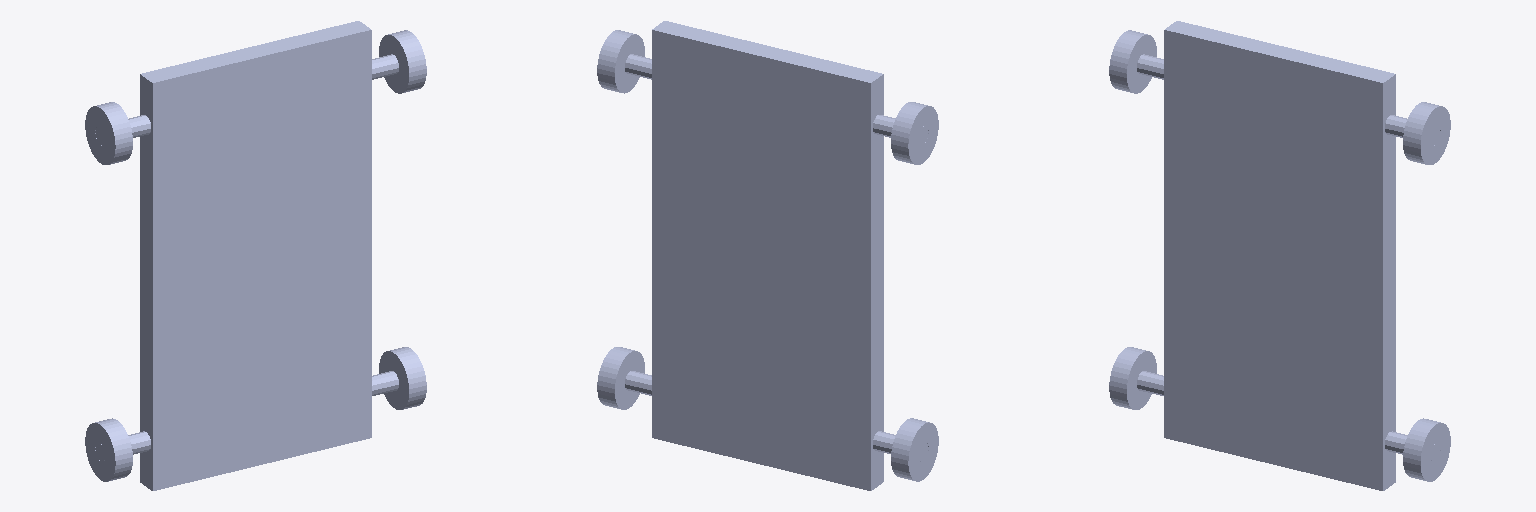
robot.urdf — ros_test_ass_v2:
<?xml version="1.0" encoding="utf-8"?>
<!-- This URDF was automatically created by SolidWorks to URDF Exporter! Originally created by [author] ([email redacted]) 
     Commit Version: 1.6.0-1-g15f4949  Build Version: 1.6.7594.29634
     For more information, please see http://wiki.ros.org/sw_urdf_exporter -->
<robot
  name="ros_test_ass_v2">
  <link
    name="chassis_link">
    <inertial>
      <origin
        xyz="-2.77555756156289E-17 0.0249831852972346 0.445"
        rpy="0 0 0" />
      <mass
        value="22.7777875658031" />
      <inertia
        ixx="1.53624657736055"
        ixy="-5.70932190304047E-19"
        ixz="6.43745039913268E-17"
        iyy="2.04388054287898"
        iyz="-7.25911804919028E-18"
        izz="0.517010899353609" />
    </inertial>
    <visual>
      <origin
        xyz="0 0 0"
        rpy="0 0 0" />
      <geometry>
        <mesh
          filename="package://ros_test_ass_v2/meshes/chassis_link.STL" />
      </geometry>
      <material
        name="">
        <color
          rgba="0.792156862745098 0.819607843137255 0.933333333333333 1" />
      </material>
    </visual>
    <collision>
      <origin
        xyz="0 0 0"
        rpy="0 0 0" />
      <geometry>
        <mesh
          filename="package://ros_test_ass_v2/meshes/chassis_link.STL" />
      </geometry>
    </collision>
  </link>
  <link
    name="frontleft_wheel">
    <inertial>
      <origin
        xyz="-0.335 0.024274 0.1"
        rpy="0 0 0" />
      <mass
        value="0.40212" />
      <inertia
        ixx="0.00080425"
        ixy="-1.1656E-36"
        ixz="-9.2518E-37"
        iyy="0.00045574"
        iyz="7.6788E-38"
        izz="0.00045574" />
    </inertial>
    <visual>
      <origin
        xyz="0 0 0"
        rpy="0 0 0" />
      <geometry>
        <mesh
          filename="package://ros_test_ass_v2/meshes/frontleft_wheel.STL" />
      </geometry>
      <material
        name="">
        <color
          rgba="0.79216 0.81961 0.93333 1" />
      </material>
    </visual>
    <collision>
      <origin
        xyz="0 0 0"
        rpy="0 0 0" />
      <geometry>
        <mesh
          filename="package://ros_test_ass_v2/meshes/frontleft_wheel.STL" />
      </geometry>
    </collision>
  </link>
  <joint
    name="front_left"
    type="revolute">
    <origin
      xyz="0 0 0"
      rpy="0 0 0" />
    <parent
      link="chassis_link" />
    <child
      link="frontleft_wheel" />
    <axis
      xyz="1 0 0" />
    <limit
      lower="0"
      upper="0"
      effort="0"
      velocity="0" />
  </joint>
  <link
    name="front_right_link">
    <inertial>
      <origin
        xyz="0.335 0.024274 0.1"
        rpy="0 0 0" />
      <mass
        value="0.40212" />
      <inertia
        ixx="0.00080425"
        ixy="-1.1656E-36"
        ixz="1.1755E-36"
        iyy="0.00045574"
        iyz="7.6788E-38"
        izz="0.00045574" />
    </inertial>
    <visual>
      <origin
        xyz="0 0 0"
        rpy="0 0 0" />
      <geometry>
        <mesh
          filename="package://ros_test_ass_v2/meshes/front_right_link.STL" />
      </geometry>
      <material
        name="">
        <color
          rgba="0.79216 0.81961 0.93333 1" />
      </material>
    </visual>
    <collision>
      <origin
        xyz="0 0 0"
        rpy="0 0 0" />
      <geometry>
        <mesh
          filename="package://ros_test_ass_v2/meshes/front_right_link.STL" />
      </geometry>
    </collision>
  </link>
  <joint
    name="front_right"
    type="revolute">
    <origin
      xyz="0 0 0"
      rpy="0 0 0" />
    <parent
      link="chassis_link" />
    <child
      link="front_right_link" />
    <axis
      xyz="1 0 0" />
    <limit
      lower="0"
      upper="0"
      effort="0"
      velocity="0" />
  </joint>
  <link
    name="rear_left_link">
    <inertial>
      <origin
        xyz="-0.335 0.024274 0.79"
        rpy="0 0 0" />
      <mass
        value="0.40212" />
      <inertia
        ixx="0.00080425"
        ixy="3.9528E-21"
        ixz="7.9056E-21"
        iyy="0.00045574"
        iyz="-7.8895E-20"
        izz="0.00045574" />
    </inertial>
    <visual>
      <origin
        xyz="0 0 0"
        rpy="0 0 0" />
      <geometry>
        <mesh
          filename="package://ros_test_ass_v2/meshes/rear_left_link.STL" />
      </geometry>
      <material
        name="">
        <color
          rgba="0.79216 0.81961 0.93333 1" />
      </material>
    </visual>
    <collision>
      <origin
        xyz="0 0 0"
        rpy="0 0 0" />
      <geometry>
        <mesh
          filename="package://ros_test_ass_v2/meshes/rear_left_link.STL" />
      </geometry>
    </collision>
  </link>
  <joint
    name="rear_left"
    type="revolute">
    <origin
      xyz="0 0 0"
      rpy="0 0 0" />
    <parent
      link="chassis_link" />
    <child
      link="rear_left_link" />
    <axis
      xyz="1 0 0" />
    <limit
      lower="0"
      upper="0"
      effort="0"
      velocity="0" />
  </joint>
  <link
    name="rear_right_link">
    <inertial>
      <origin
        xyz="0.335 0.024274 0.79"
        rpy="0 0 0" />
      <mass
        value="0.40212" />
      <inertia
        ixx="0.00080425"
        ixy="-1.1656E-36"
        ixz="1.1755E-36"
        iyy="0.00045574"
        iyz="7.6788E-38"
        izz="0.00045574" />
    </inertial>
    <visual>
      <origin
        xyz="0 0 0"
        rpy="0 0 0" />
      <geometry>
        <mesh
          filename="package://ros_test_ass_v2/meshes/rear_right_link.STL" />
      </geometry>
      <material
        name="">
        <color
          rgba="0.79216 0.81961 0.93333 1" />
      </material>
    </visual>
    <collision>
      <origin
        xyz="0 0 0"
        rpy="0 0 0" />
      <geometry>
        <mesh
          filename="package://ros_test_ass_v2/meshes/rear_right_link.STL" />
      </geometry>
    </collision>
  </link>
  <joint
    name="rear_right"
    type="continuous">
    <origin
      xyz="0 0 0"
      rpy="0 0 0" />
    <parent
      link="chassis_link" />
    <child
      link="rear_right_link" />
    <axis
      xyz="1 0 0" />
  </joint>
</robot>

--- Facts derived from the render (not from the file) ---
Views: 3 orthographic renders of the robot side by side, from view 1: azimuth 30°, elevation 25°; view 2: azimuth 150°, elevation 25°; view 3: azimuth 330°, elevation 25°.
Model ros_test_ass_v2 with 5 links and 4 joints (3 revolute, 1 continuous), rooted at chassis_link, posed every joint at zero.
Visible links, largest first — view 1: chassis_link, rear_left_link, frontleft_wheel, front_right_link, rear_right_link; view 2: chassis_link, rear_left_link, frontleft_wheel, front_right_link, rear_right_link; view 3: chassis_link, rear_right_link, front_right_link, rear_left_link, frontleft_wheel.
Boxes of the visible links, bbox=[...] form: chassis_link: bbox=[95, 21, 398, 490]; rear_left_link: bbox=[85, 102, 132, 164]; frontleft_wheel: bbox=[85, 418, 132, 481]; front_right_link: bbox=[379, 347, 426, 409]; rear_right_link: bbox=[379, 30, 426, 93]; chassis_link: bbox=[625, 21, 928, 490]; rear_left_link: bbox=[891, 102, 938, 164]; frontleft_wheel: bbox=[891, 418, 938, 481]; front_right_link: bbox=[597, 347, 644, 409]; rear_right_link: bbox=[597, 30, 644, 93]; chassis_link: bbox=[1137, 21, 1440, 490]; rear_right_link: bbox=[1403, 102, 1450, 164]; front_right_link: bbox=[1403, 418, 1450, 481]; rear_left_link: bbox=[1109, 30, 1156, 93]; frontleft_wheel: bbox=[1109, 347, 1156, 409].
Bounding box of the posed robot: 0.71 × 0.1198 × 0.89 m (x, y, z).
5 mesh visuals loaded from 5 distinct referenced files (5 binary STL).